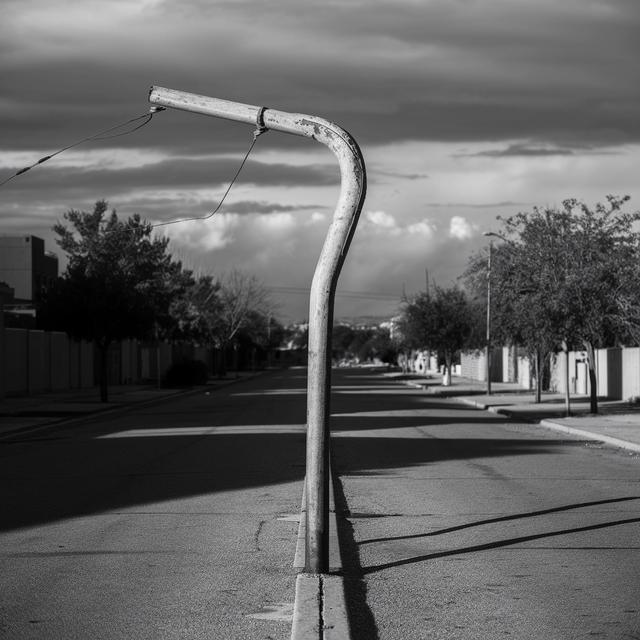Inclined Pole: (142, 83, 375, 565)
